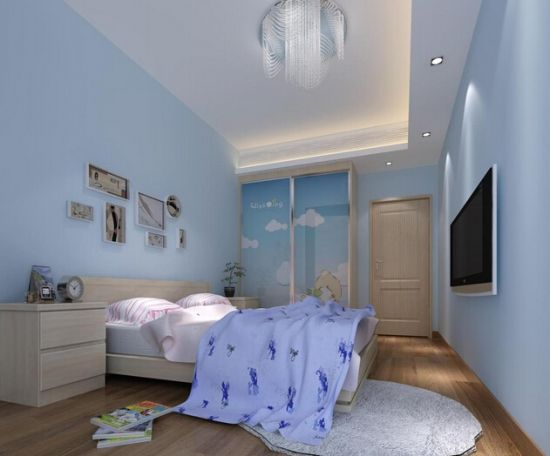床: (100, 293, 371, 425)
枕头: (110, 292, 230, 319)
灯: (253, 2, 346, 90), (423, 56, 442, 69), (415, 131, 431, 142), (377, 160, 393, 169)
